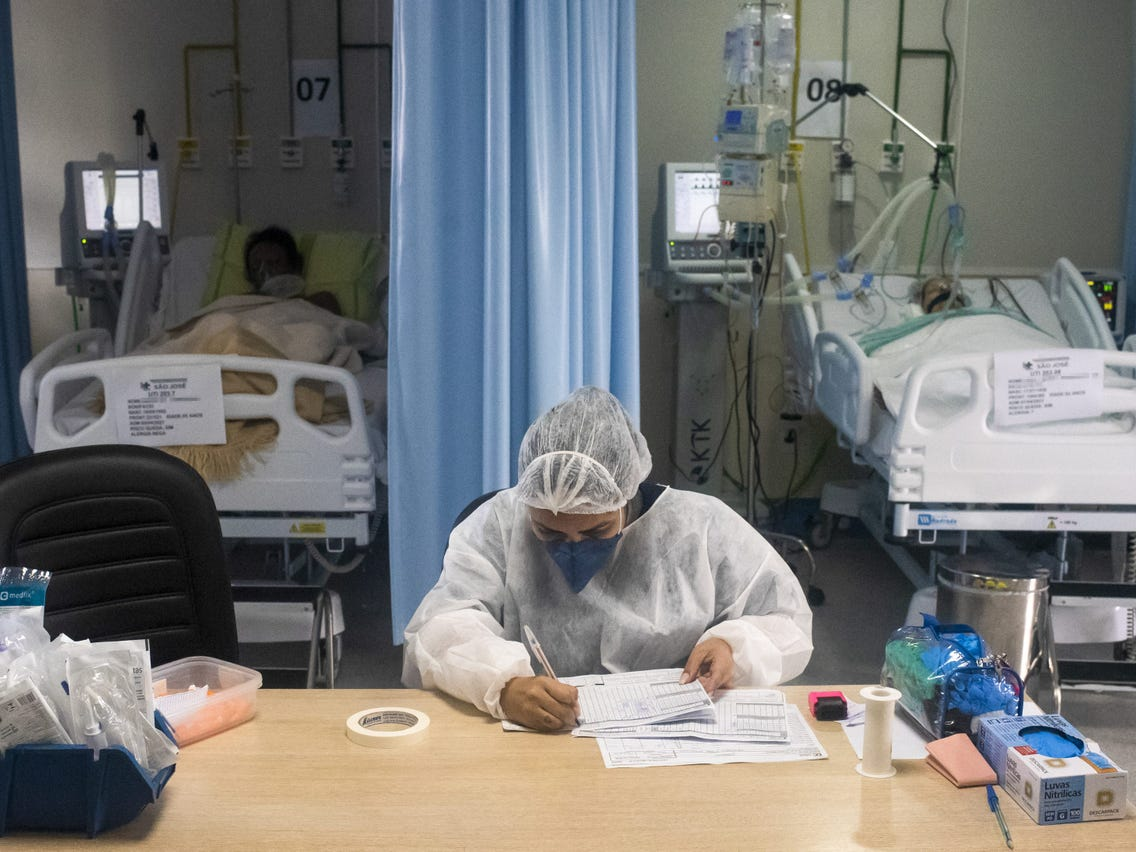bedrail: (19, 327, 113, 451), (1048, 257, 1136, 351), (812, 327, 874, 448), (113, 224, 164, 361), (778, 252, 817, 387)
bedside_monitor: (68, 169, 168, 240)
breathing_tube: (698, 175, 971, 308)
chair: (1, 445, 258, 687)
curtain: (386, 1, 641, 644)
dispenser: (986, 709, 1122, 820)
foot_board: (32, 353, 379, 518), (888, 348, 1136, 538)
hospital_bed: (20, 222, 387, 688), (778, 263, 1136, 689)
iv_pole: (735, 1, 785, 102)
patient: (176, 223, 343, 427), (900, 275, 1070, 426)
staff: (401, 386, 813, 732)
table: (1, 686, 1136, 852)
ventilator: (647, 159, 765, 495)
waste_bin: (924, 559, 1057, 722)
